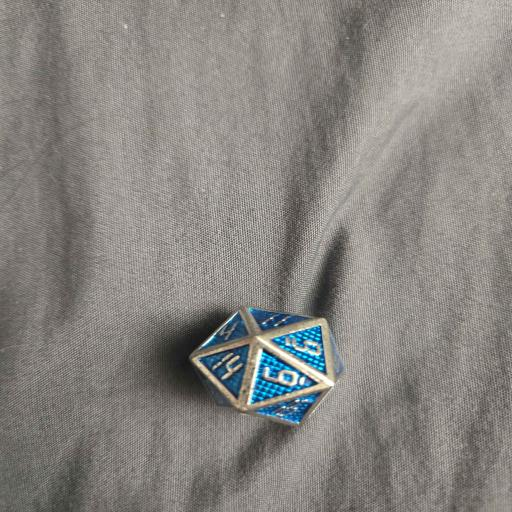twenty sided dice: (188, 305, 346, 428)
